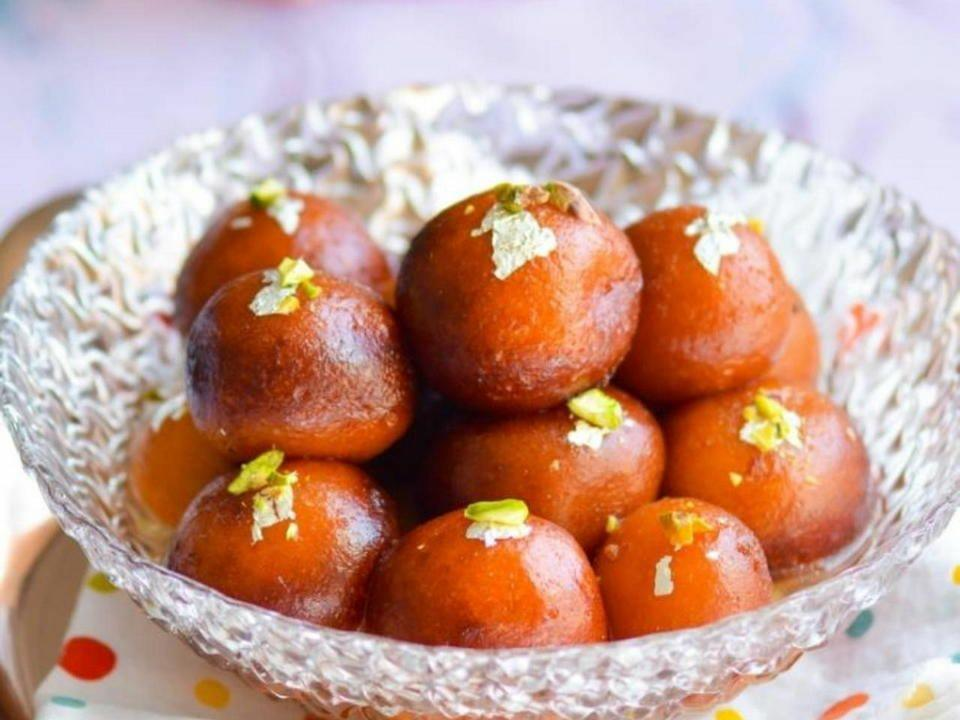GulabJamun: (397, 182, 635, 410), (185, 262, 420, 462), (166, 447, 399, 631), (677, 373, 880, 563), (624, 203, 797, 403), (377, 502, 612, 649), (177, 187, 394, 338), (447, 383, 669, 528), (596, 502, 770, 642), (129, 395, 244, 530), (740, 285, 822, 393)
